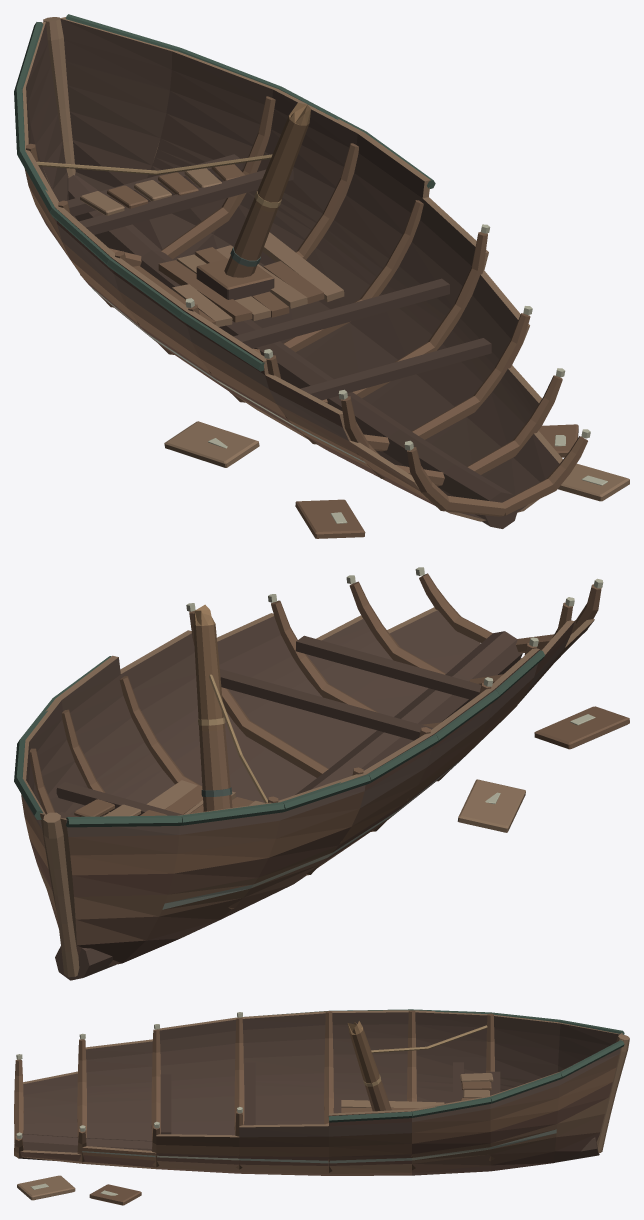
Rendered from salt_lake_wreck.glb.
3 views of the same model, one above another, from view 1: azimuth 30°, elevation 25°; view 2: azimuth 150°, elevation 25°; view 3: azimuth 270°, elevation 25° (orthographic). The views are drawn at different scales.
Parts seen in each view (by area): view 1: salt_lake_wreck; view 2: salt_lake_wreck; view 3: salt_lake_wreck.
Boxes of the visible parts, x1,y1,x2,y2 form: salt_lake_wreck: (14, 14, 629, 538); salt_lake_wreck: (14, 567, 629, 980); salt_lake_wreck: (14, 1009, 629, 1205).
Size of the model in its own units: 11.89 by 8.37 by 28.21.
